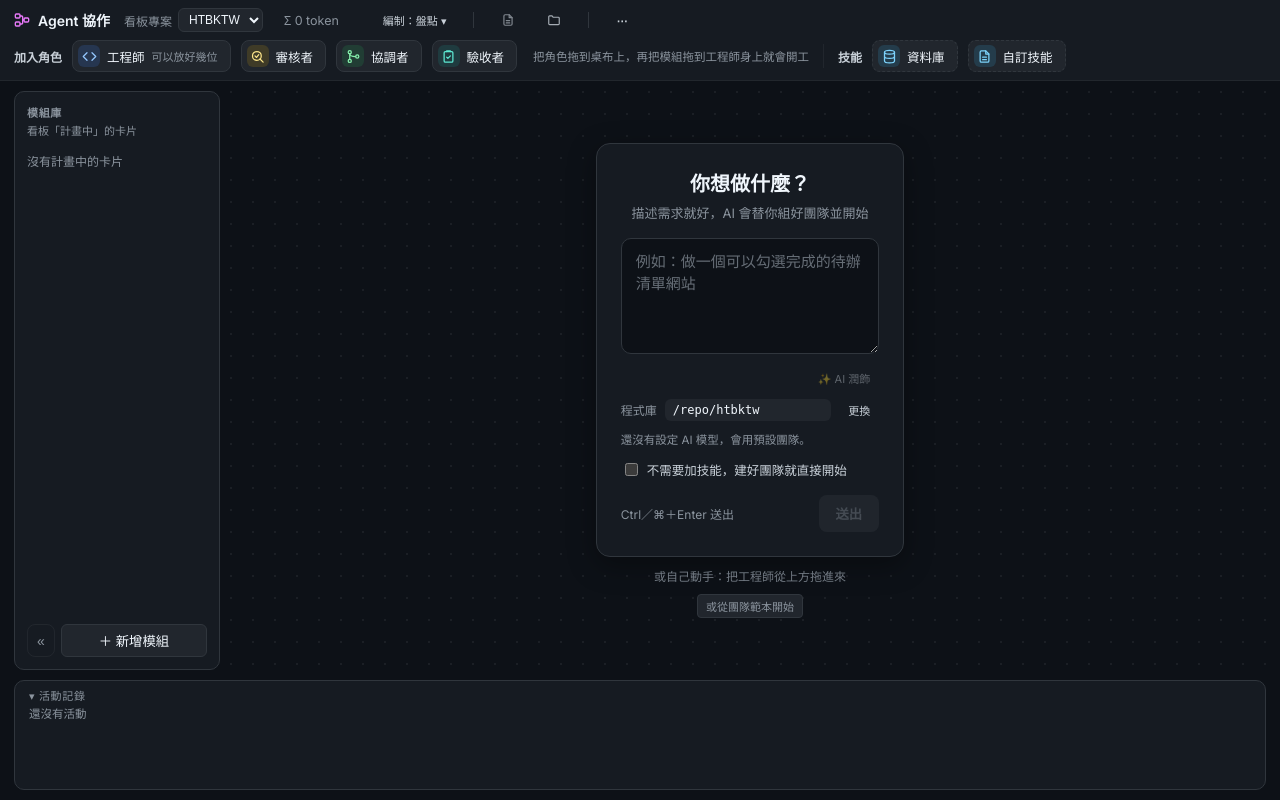
Test: AgentCanvasView › 新增模組時自動帶入這個專案的專案資料夾，不用上次在看板用過的
Click the button "＋ 新增模組" at point(134, 640), box 61,624 -> 207,657
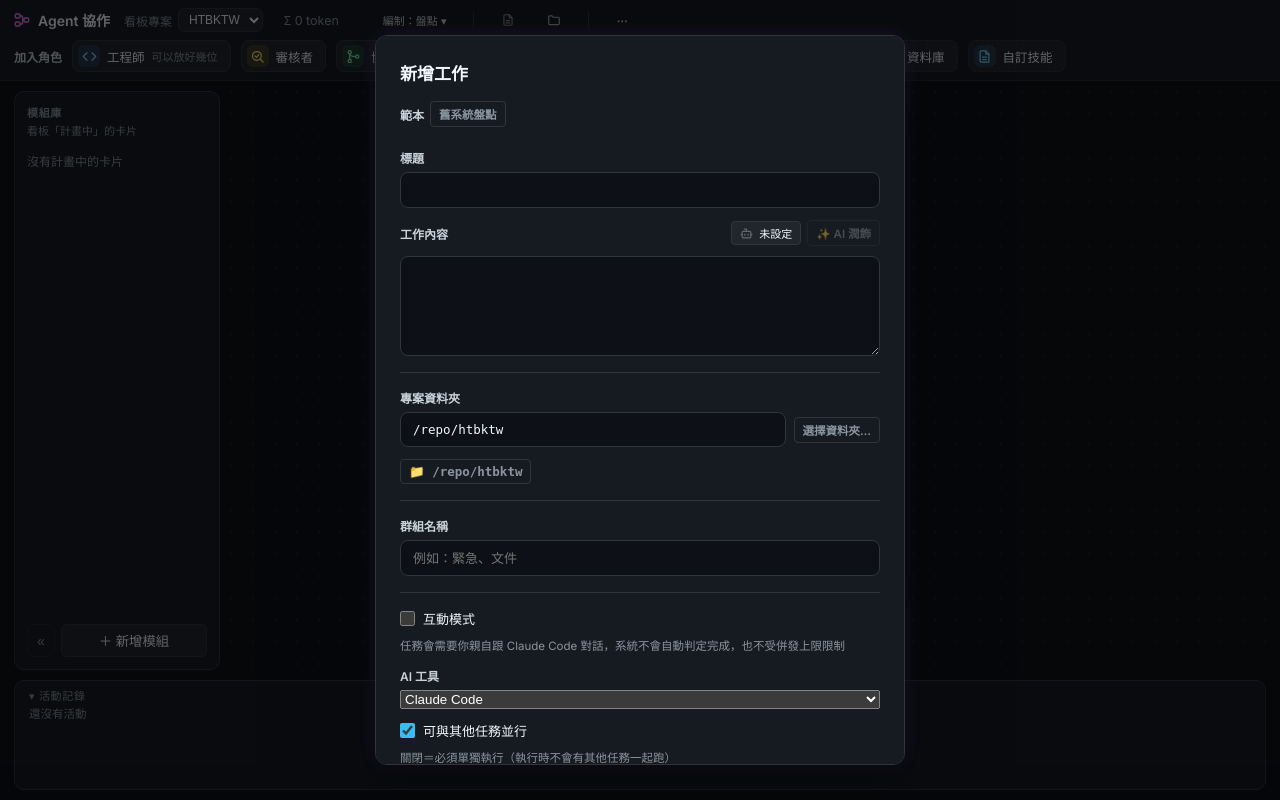
Result: the field with test id "task-dir-input" holds "/repo/htbktw" at 400,412 -> 786,447
